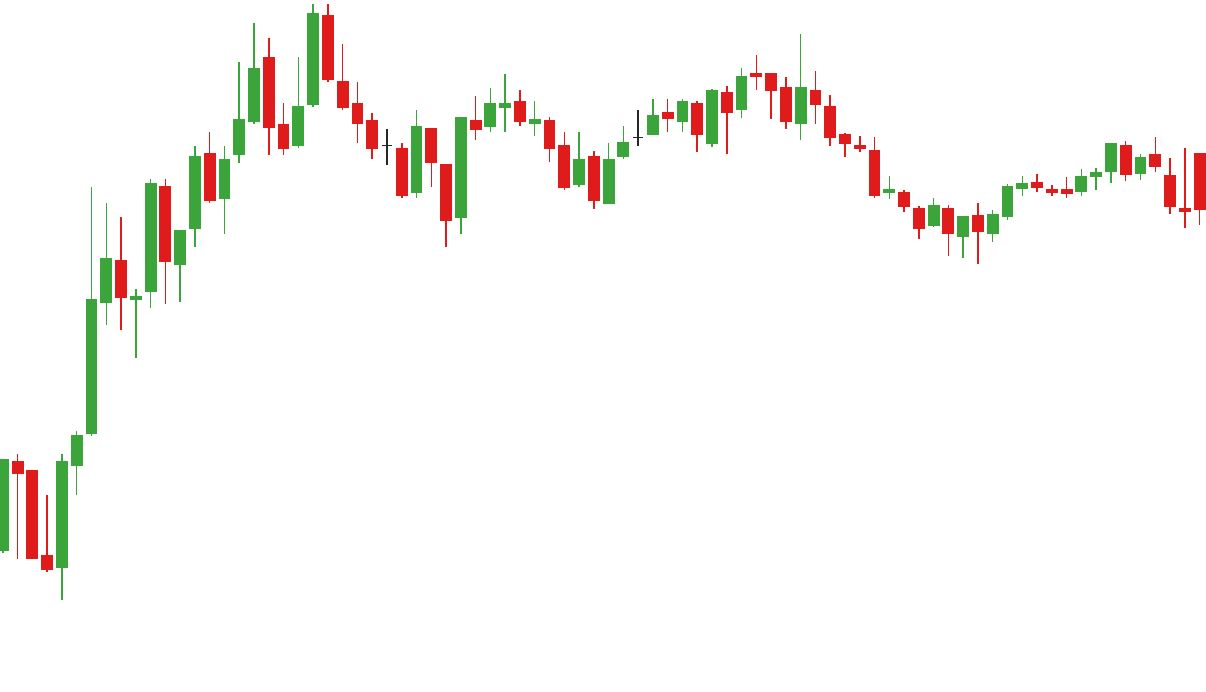sell: (247, 6, 339, 123)
